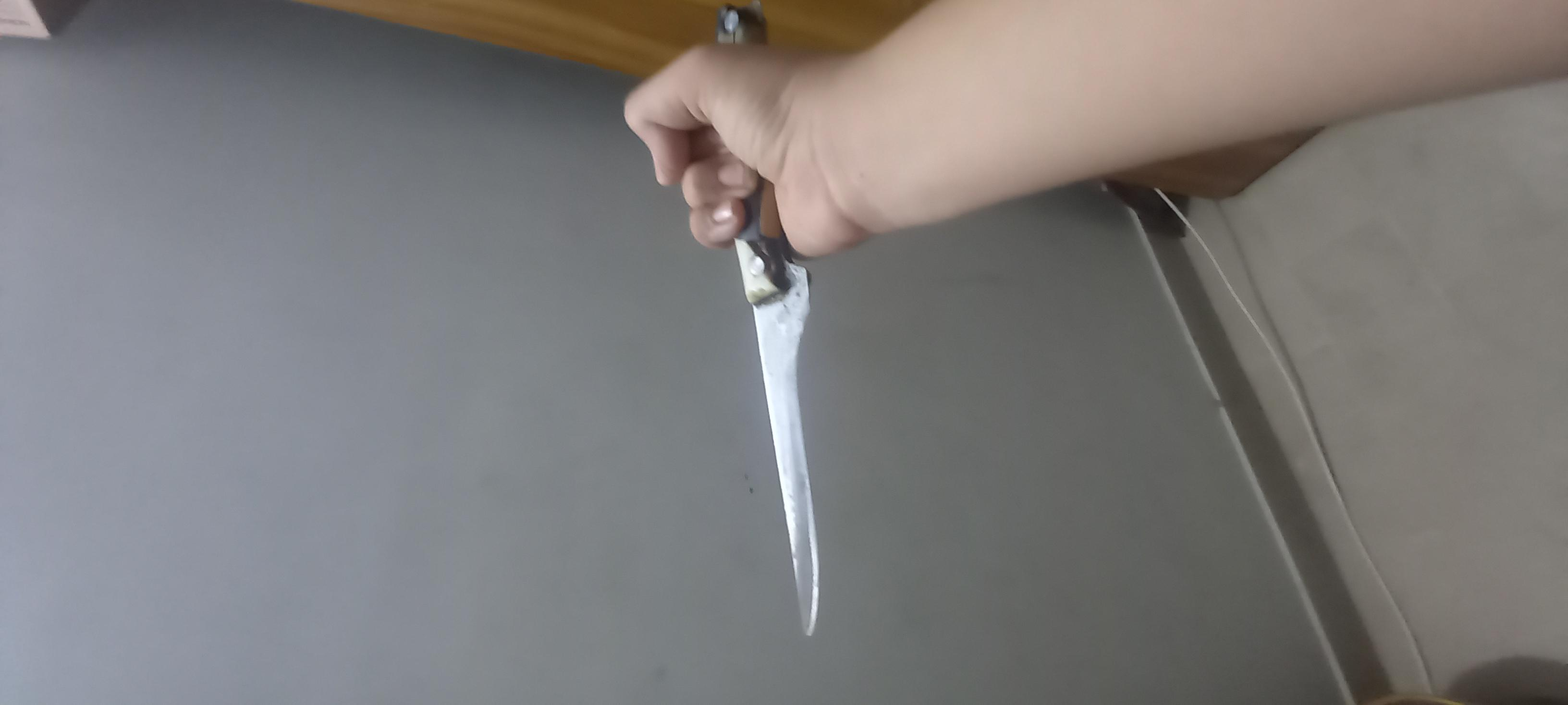knives: (128, 314, 1568, 378)
